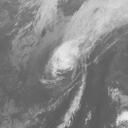cyclone: (46, 40, 81, 78)
